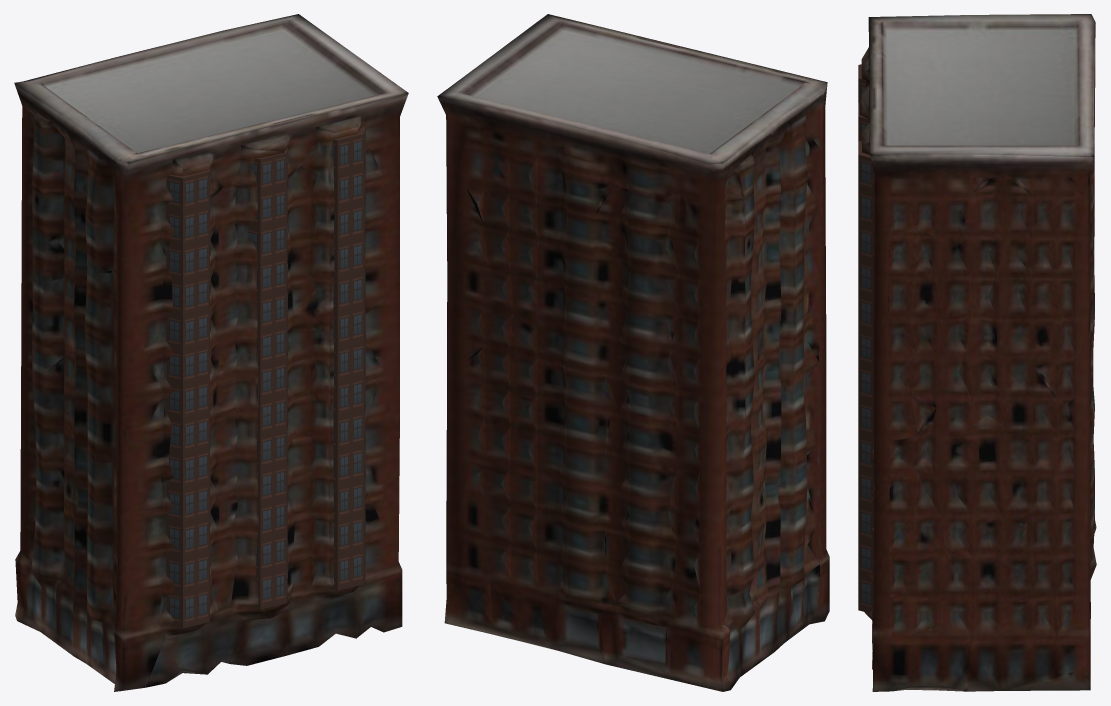
File: pontiac_building.glb
3 views of the same model, side by side, from view 1: azimuth 30°, elevation 25°; view 2: azimuth 150°, elevation 25°; view 3: azimuth 270°, elevation 25° (orthographic).
Parts seen in each view (by area): view 1: pontiac_building; view 2: pontiac_building; view 3: pontiac_building.
Part boxes in pixels (left/top/right/bottom): pontiac_building: left=14, top=14, right=408, bottom=691; pontiac_building: left=437, top=14, right=829, bottom=691; pontiac_building: left=858, top=14, right=1096, bottom=691.
Size of the model in its own units: 30 by 53 by 21.11.
2 materials, 2 textured.
